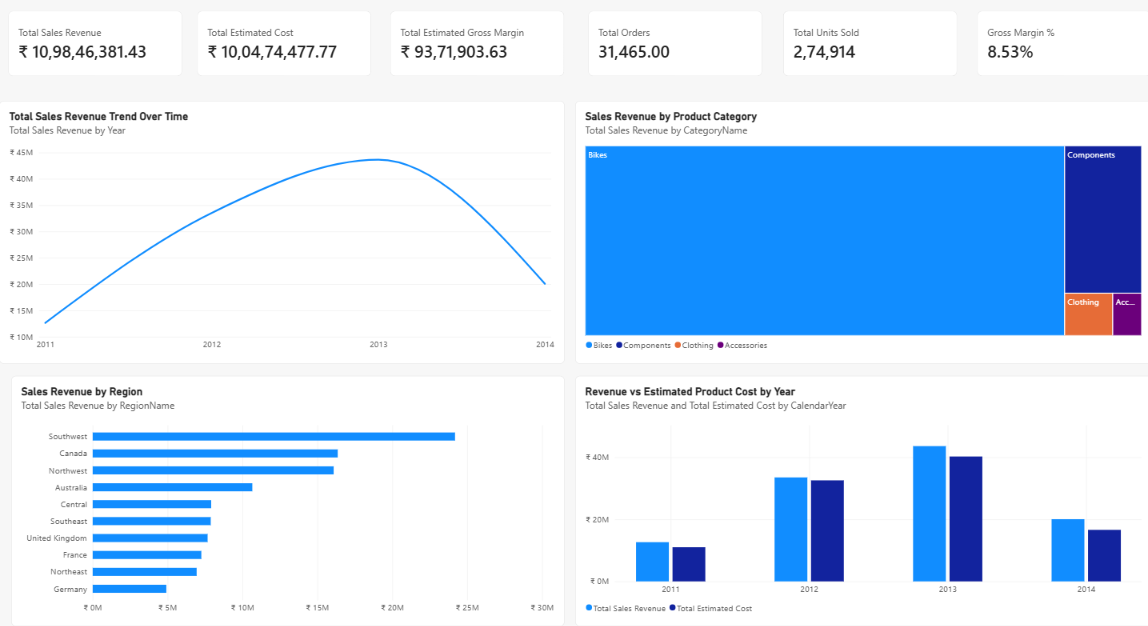

This screenshot's page, from the dashboard's own definition file:
{"tool":"powerbi","page":{"name":"Executive overview","canvas":[1920,1080],"ordinal":0},"visuals":[{"type":"cardVisual","fields":{"Data":["fact FactSales.Total Sales Revenue"]},"box":[14.4,22.6,290.2,109.1],"z":0},{"type":"cardVisual","fields":{"Data":["fact FactSales.Total Orders"]},"box":[981.8,22.6,290.2,109.1],"z":1},{"type":"cardVisual","fields":{"Data":["fact FactSales.Total Estimated Cost"]},"box":[329.3,22.6,290.2,109.1],"z":2},{"type":"cardVisual","fields":{"Data":["fact FactSales.Total Estimated Gross Margin"]},"box":[652.5,22.6,290.2,109.1],"z":3},{"type":"cardVisual","fields":{"Data":["fact FactSales.Gross Margin %"]},"box":[1630.2,22.6,290.2,109.1],"z":4},{"type":"cardVisual","fields":{"Data":["fact FactSales.Total Units Sold"]},"box":[1307,22.6,290.2,109.1],"z":5},{"type":"lineChart","title":"Total Sales Revenue Trend Over Time","fields":{"Category":["dim DimDate.FullDate.Variation.Date Hierarchy.Year","dim DimDate.FullDate.Variation.Date Hierarchy.Quarter","dim DimDate.FullDate.Variation.Date Hierarchy.Month","dim DimDate.FullDate.Variation.Date Hierarchy.Day"],"Y":["fact FactSales.Total Sales Revenue"]},"box":[0,172.9,942.7,438.4],"z":6},{"type":"clusteredBarChart","title":"Sales Revenue by Region","fields":{"Category":["dim DimRegion.RegionName"],"Y":["fact FactSales.Total Sales Revenue"]},"box":[20.6,631.9,922.1,417.8],"z":7},{"type":"treemap","title":"Sales Revenue by Product Category","fields":{"Group":["dim DimProduct.CategoryName"],"Values":["fact FactSales.Total Sales Revenue"]},"box":[959.2,172.9,961.2,438.4],"z":8},{"type":"clusteredColumnChart","title":"Revenue vs Estimated Product Cost by Year","fields":{"Category":["dim DimDate.CalendarYear"],"Y":["fact FactSales.Total Sales Revenue","fact FactSales.Total Estimated Cost"]},"box":[959.2,631.9,961.2,417.8],"z":9}]}

Visuals, with their boxes on the page's 1920x1080 design canvas (x1, y1, x2, y2). These are canvas units, not pixel positions in the 1148x626 screenshot, which may show the page scaled, cropped or inside an application window:
cardVisual - fact FactSales.Total Sales Revenue: bbox=(14, 23, 305, 132)
cardVisual - fact FactSales.Total Orders: bbox=(982, 23, 1272, 132)
cardVisual - fact FactSales.Total Estimated Cost: bbox=(329, 23, 620, 132)
cardVisual - fact FactSales.Total Estimated Gross Margin: bbox=(652, 23, 943, 132)
cardVisual - fact FactSales.Gross Margin %: bbox=(1630, 23, 1920, 132)
cardVisual - fact FactSales.Total Units Sold: bbox=(1307, 23, 1597, 132)
"Total Sales Revenue Trend Over Time" lineChart: bbox=(0, 173, 943, 611)
"Sales Revenue by Region" clusteredBarChart: bbox=(21, 632, 943, 1050)
"Sales Revenue by Product Category" treemap: bbox=(959, 173, 1920, 611)
"Revenue vs Estimated Product Cost by Year" clusteredColumnChart: bbox=(959, 632, 1920, 1050)
